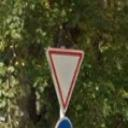preferencia: (44, 44, 88, 114)
